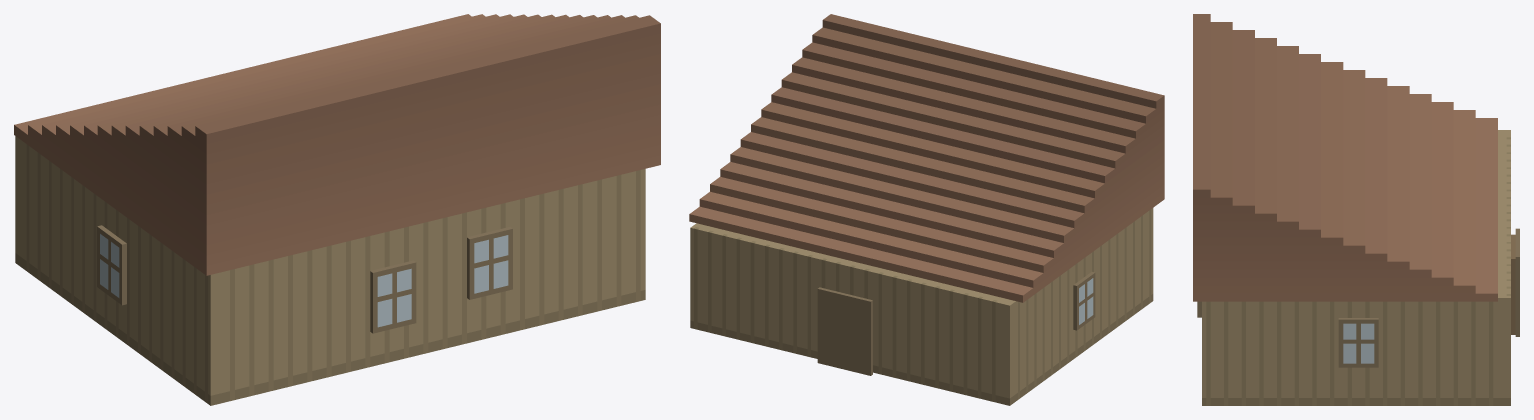
The model's file is botica_03.glb.
The picture shows the model from 3 angles, left to right: view 1: azimuth 30°, elevation 25°; view 2: azimuth 150°, elevation 25°; view 3: azimuth 270°, elevation 25°; orthographic projection. The views are drawn at different scales.
Parts seen in each view (by area): view 1: botica_03; view 2: botica_03; view 3: botica_03.
Boxes of the visible parts, x1=… form: botica_03: x1=14, y1=14, x2=660, y2=405; botica_03: x1=689, y1=14, x2=1164, y2=405; botica_03: x1=1193, y1=14, x2=1519, y2=405.
Bounding box in the file's own units: 9.4 × 5.5 × 7.4.
